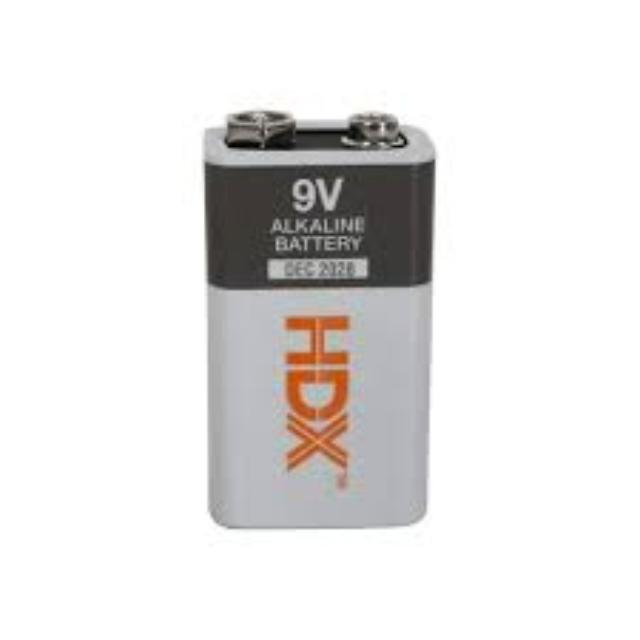Battery: (202, 111, 435, 532)
